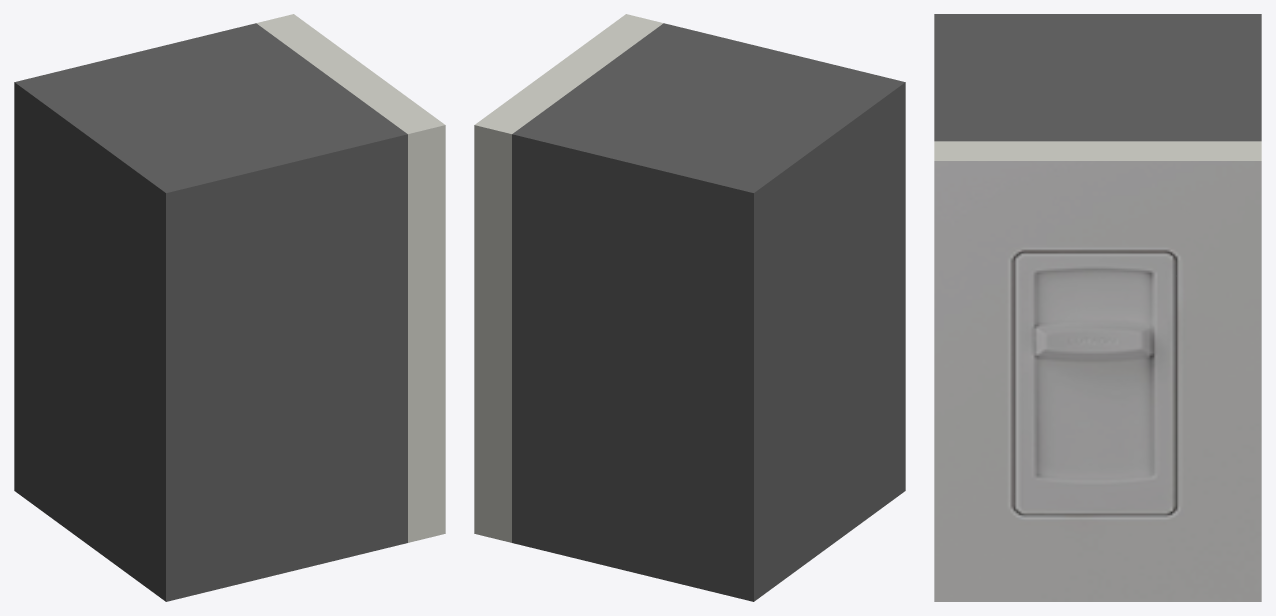
Rendered from GYM_Light_Switch_1.fbx.
3 views of the same model, side by side, from view 1: azimuth 30°, elevation 25°; view 2: azimuth 150°, elevation 25°; view 3: azimuth 270°, elevation 25° (orthographic). The views are drawn at different scales.
Visible parts, largest first — view 1: GYM_Switch; view 2: GYM_Switch; view 3: GYM_Switch.
Boxes of the visible parts, x1,y1,x2,y2 form: GYM_Switch: (14, 14, 445, 601); GYM_Switch: (474, 14, 905, 601); GYM_Switch: (934, 14, 1261, 601).
Bounding box in the file's own units: 0.1177 × 0.1645 × 0.1107.
Materials: 2 (1 with a texture image).
